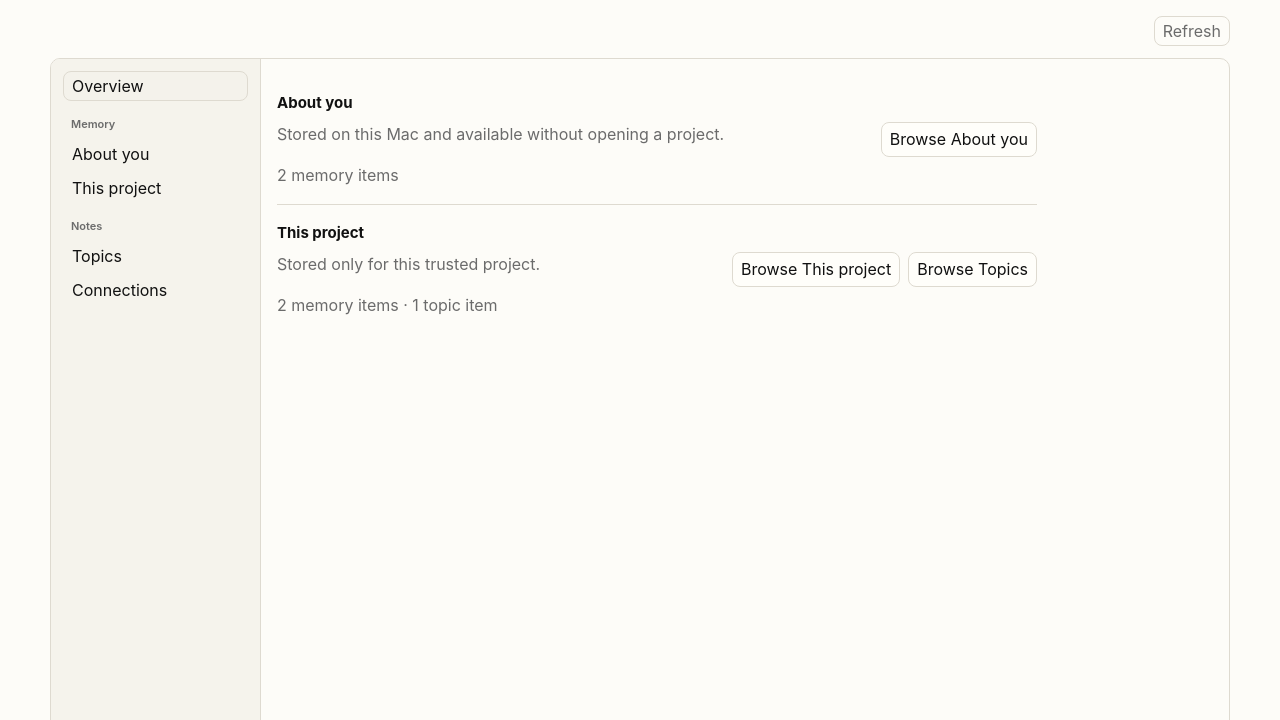
Test case: LibraryPanel › exposes Connections as exact metadata, never retrieval authority
Click the button "Connections": {"x": 156, "y": 290} left=63, top=275, right=248, bottom=305
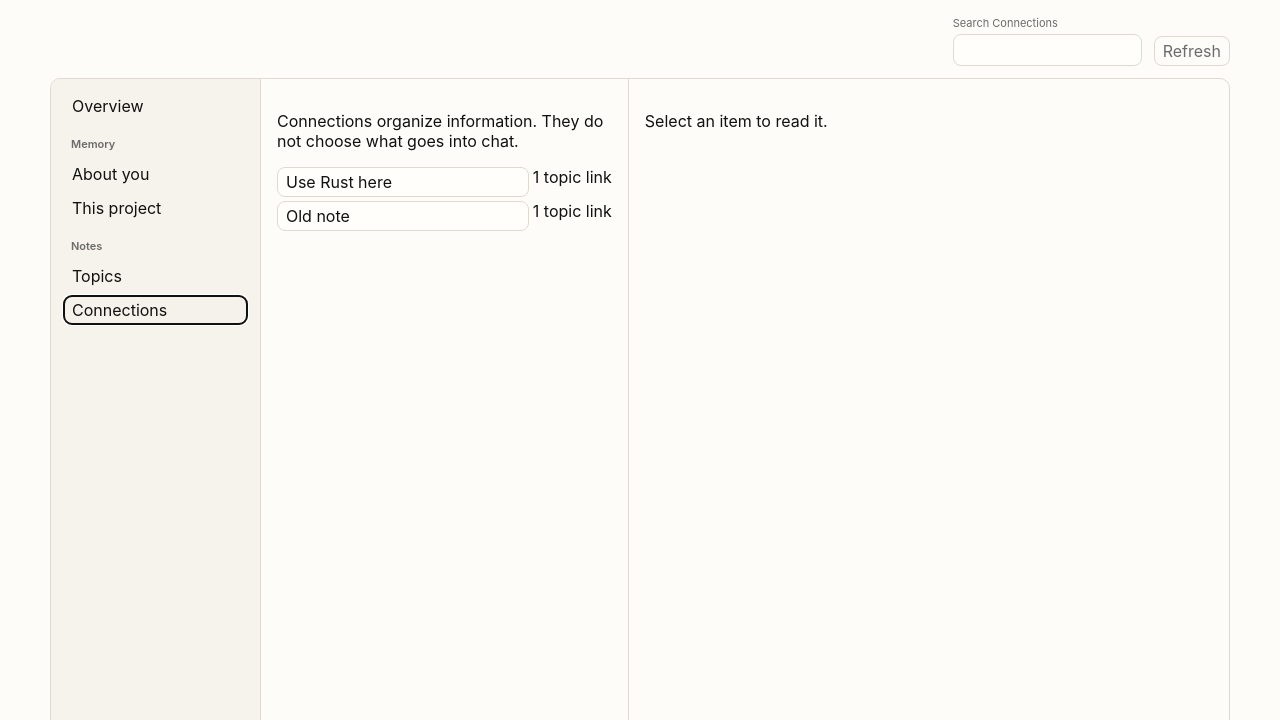
Check: the button "Use Rust here" is shown, box left=277, top=167, right=529, bottom=197
Check: the button "Old note" is shown, box left=277, top=201, right=529, bottom=231
Check: the text "Connections organize information" is shown, box left=277, top=111, right=603, bottom=151
